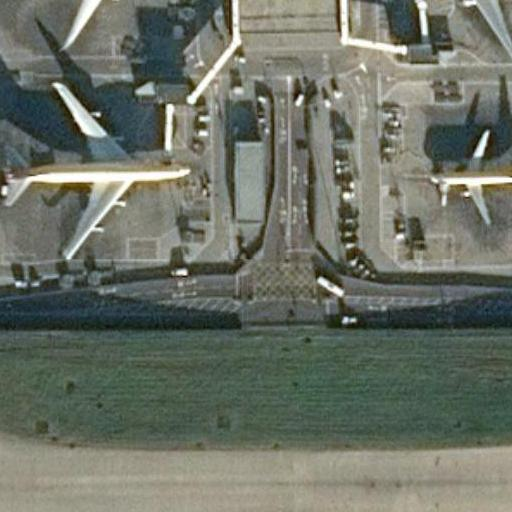Aircraft: (0, 80, 189, 260), (426, 126, 512, 223), (11, 0, 169, 51), (399, 0, 512, 59)
